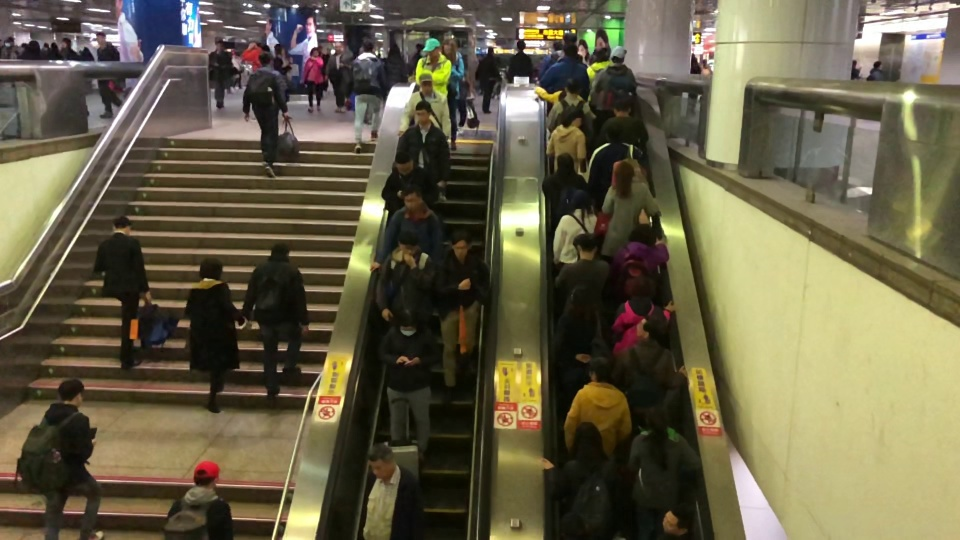person_head: (568, 421, 608, 470), (365, 441, 397, 482), (611, 159, 636, 201), (191, 460, 221, 491), (567, 282, 596, 314), (622, 274, 657, 300), (635, 402, 663, 434), (395, 304, 422, 337), (636, 310, 664, 341), (627, 221, 657, 249), (58, 378, 85, 409), (574, 233, 600, 265), (449, 227, 473, 261), (587, 353, 613, 383), (397, 226, 421, 255), (393, 150, 414, 181), (402, 183, 423, 212), (199, 257, 223, 281), (569, 189, 591, 215), (612, 89, 632, 116), (562, 107, 585, 130), (604, 120, 626, 142), (422, 36, 441, 60), (414, 101, 432, 126), (557, 151, 575, 176), (111, 214, 131, 236), (417, 71, 434, 96), (608, 45, 628, 65), (271, 243, 291, 262), (564, 76, 583, 95), (441, 40, 457, 62), (258, 51, 274, 68), (562, 31, 578, 48), (592, 47, 609, 63), (388, 43, 402, 58), (362, 38, 376, 53), (563, 44, 578, 58), (273, 42, 286, 57), (95, 31, 107, 46), (248, 36, 261, 49), (60, 36, 72, 50), (309, 46, 321, 58), (215, 39, 226, 52), (4, 36, 16, 47), (552, 40, 564, 51), (333, 40, 343, 53), (517, 40, 527, 52), (873, 61, 884, 70), (43, 41, 50, 52), (487, 48, 495, 56)
person_vbox: (19, 377, 105, 540), (536, 419, 628, 540), (243, 239, 310, 398), (183, 256, 249, 414), (434, 232, 493, 401), (376, 306, 437, 469), (624, 400, 701, 521), (613, 313, 689, 434), (93, 214, 153, 367), (550, 282, 611, 416), (561, 354, 631, 465), (355, 440, 427, 540), (594, 158, 662, 263), (368, 186, 444, 276), (398, 72, 451, 201), (375, 229, 443, 324), (161, 455, 233, 540), (587, 117, 649, 215), (242, 51, 289, 178), (609, 276, 678, 362), (548, 230, 610, 312), (609, 224, 669, 307), (394, 101, 451, 187), (539, 151, 593, 230), (590, 45, 638, 133), (349, 38, 385, 155), (380, 148, 440, 217), (552, 189, 598, 278), (539, 43, 591, 116), (595, 88, 650, 152), (545, 106, 590, 183), (545, 76, 596, 141), (92, 28, 124, 118), (442, 40, 464, 150), (239, 35, 266, 122), (415, 37, 452, 97), (325, 39, 353, 114), (207, 37, 233, 110), (475, 45, 502, 114), (585, 45, 615, 102), (303, 46, 328, 112), (382, 43, 408, 104), (507, 38, 536, 83), (272, 41, 292, 103), (534, 85, 584, 108), (660, 504, 697, 535), (536, 39, 564, 79), (551, 32, 583, 64), (55, 34, 82, 63), (0, 35, 20, 62), (866, 61, 886, 81), (38, 42, 53, 61)
